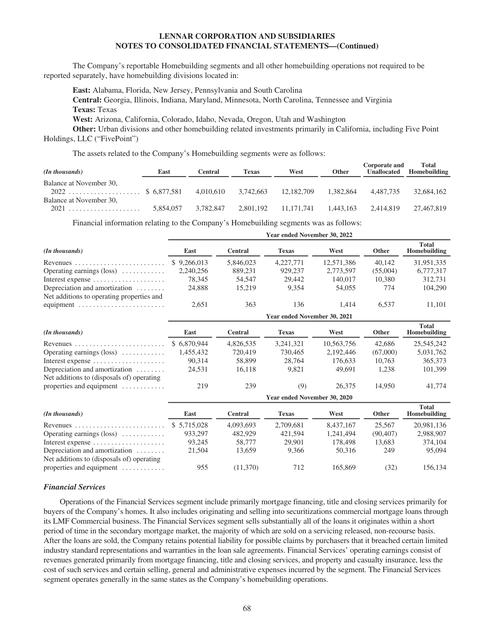box: (41, 166, 450, 474)
